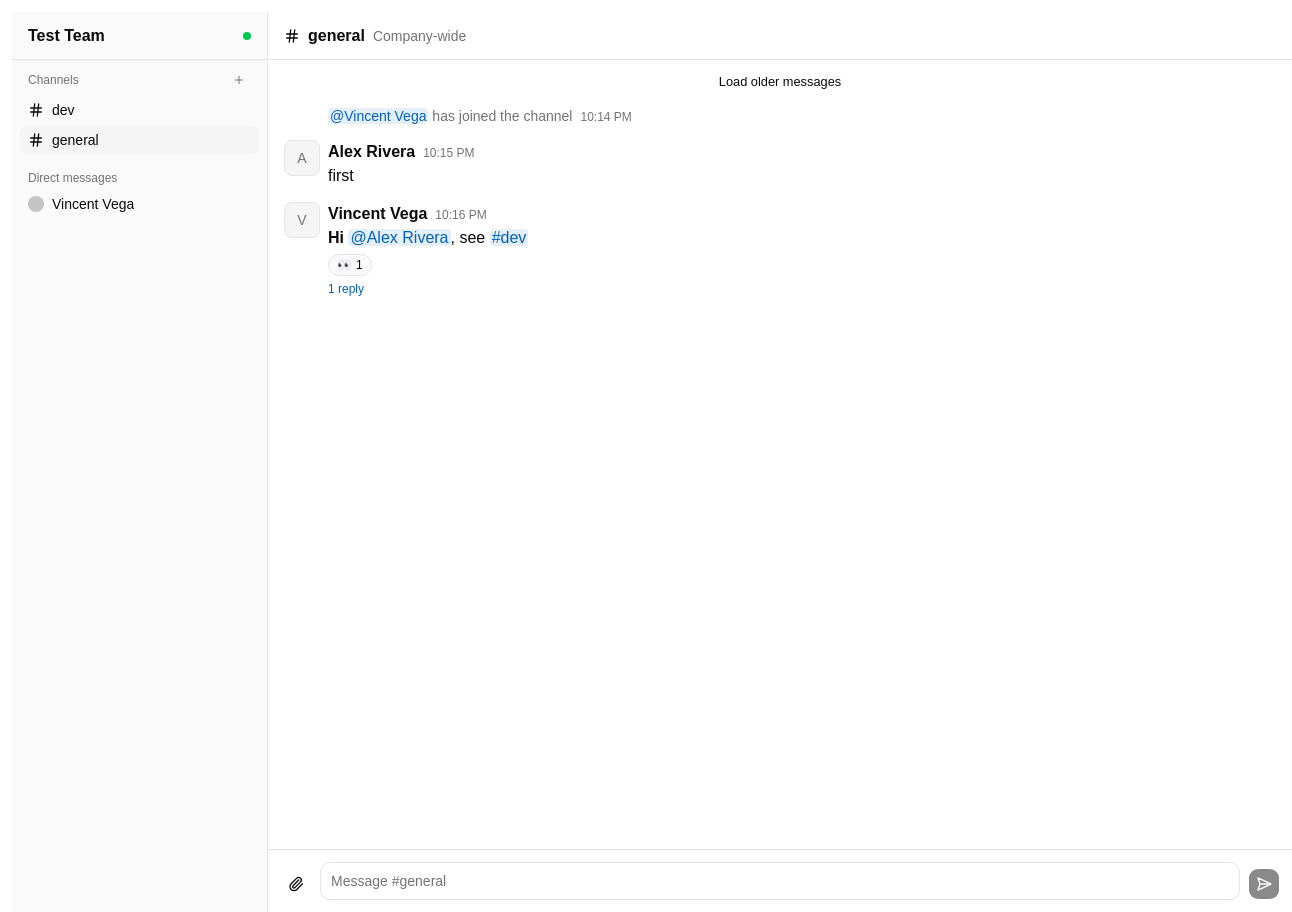
it: slash commands in the composer › offers the commands as the name is typed, and picks one with the keyboard
The image size is (1292, 912).
Type "/de" into the text box labelled "Message #general". click: (780, 881)
box: [320, 862, 1240, 900]
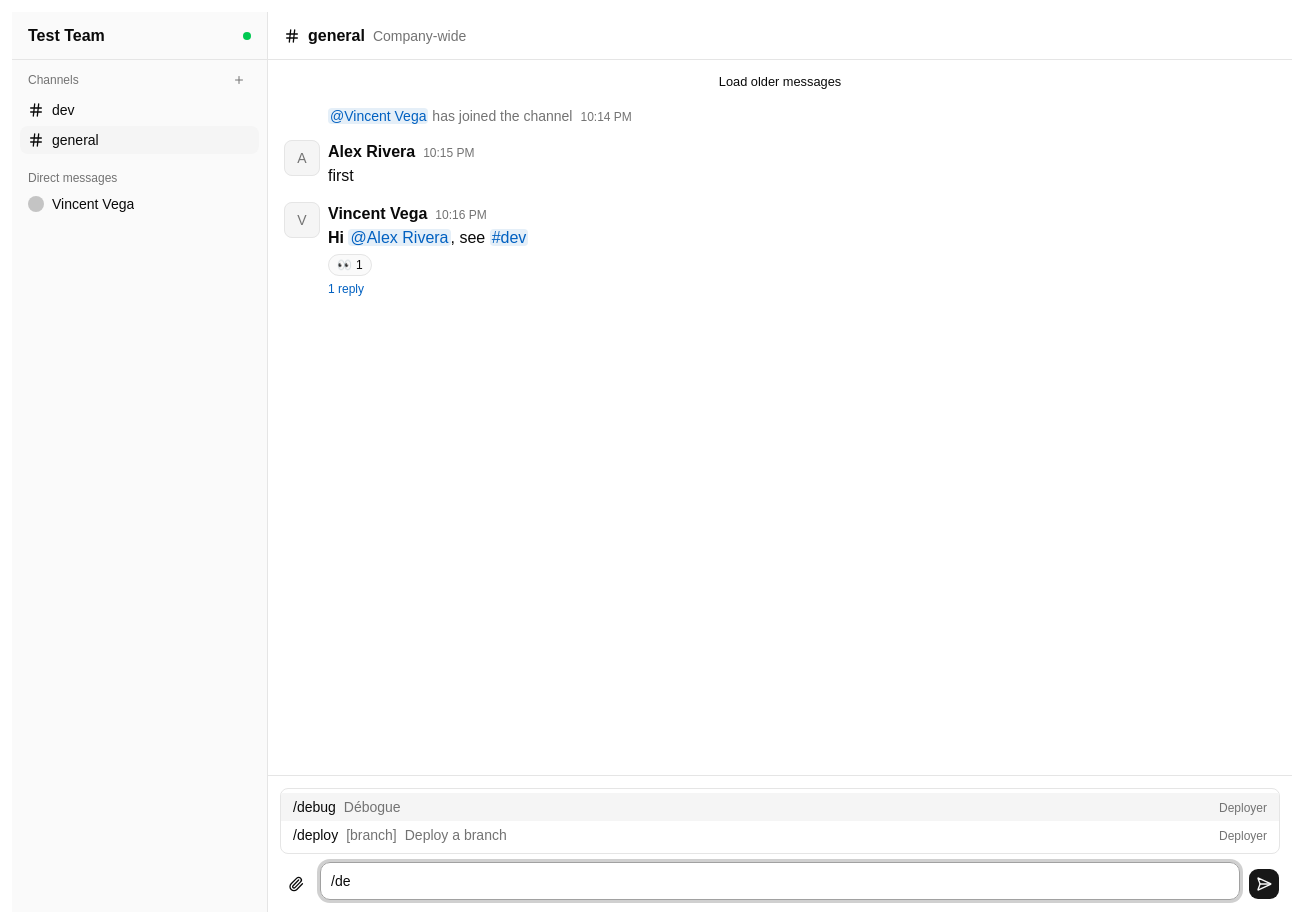
Expected: the list named "Commands" is shown, [280, 788, 1280, 854]
Press Arrowdown
Expected: the option "/deploy [branch] Deploy a branch Deployer" is shown, [281, 821, 1279, 849]
Press Tab
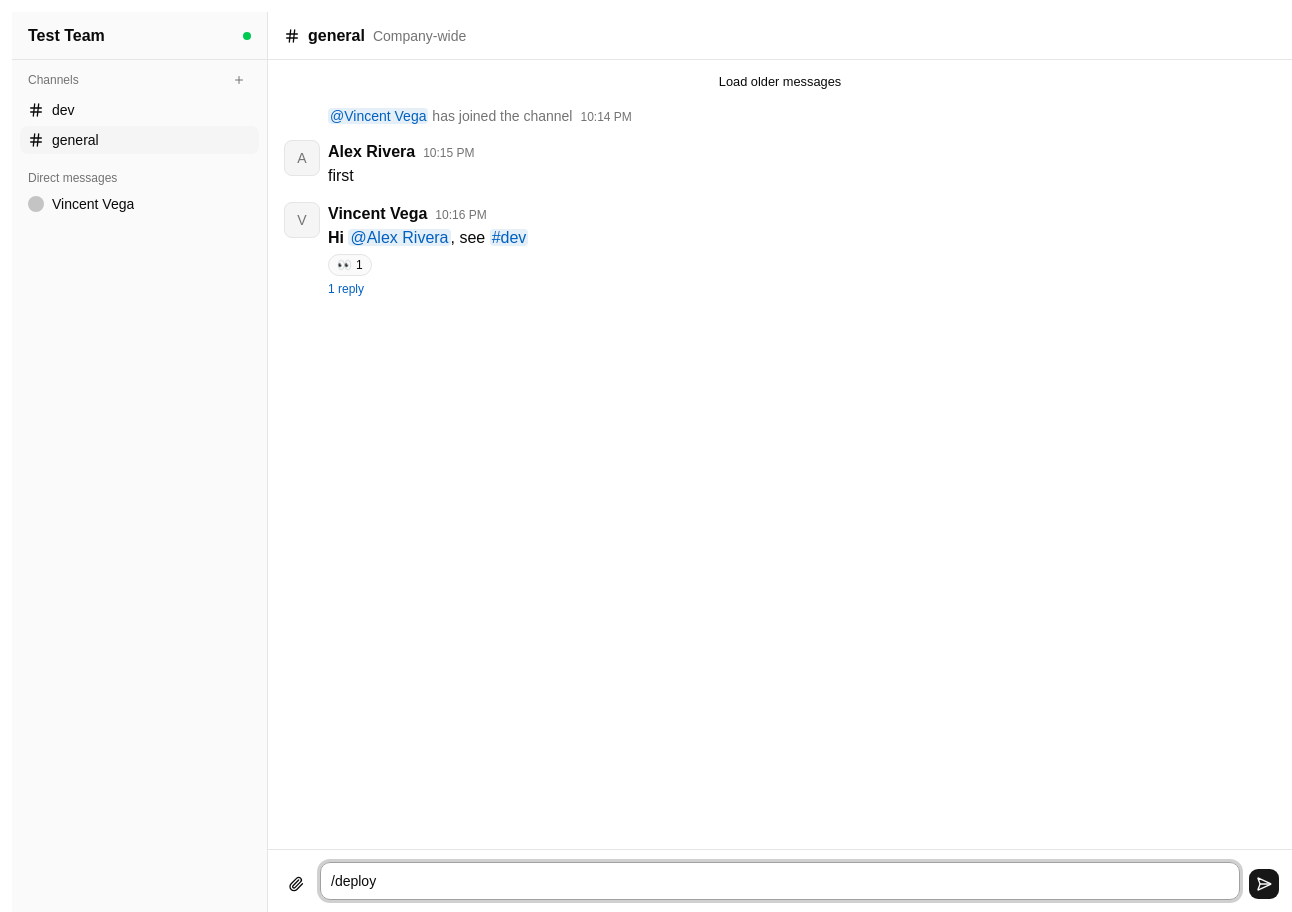
Expected: the text box named "Message #general" holds "/deploy "
// Escape hides the list for what's typed.
Replace the text in the text box named "Message #general" with "/". click: (780, 881)
box: [320, 862, 1240, 900]
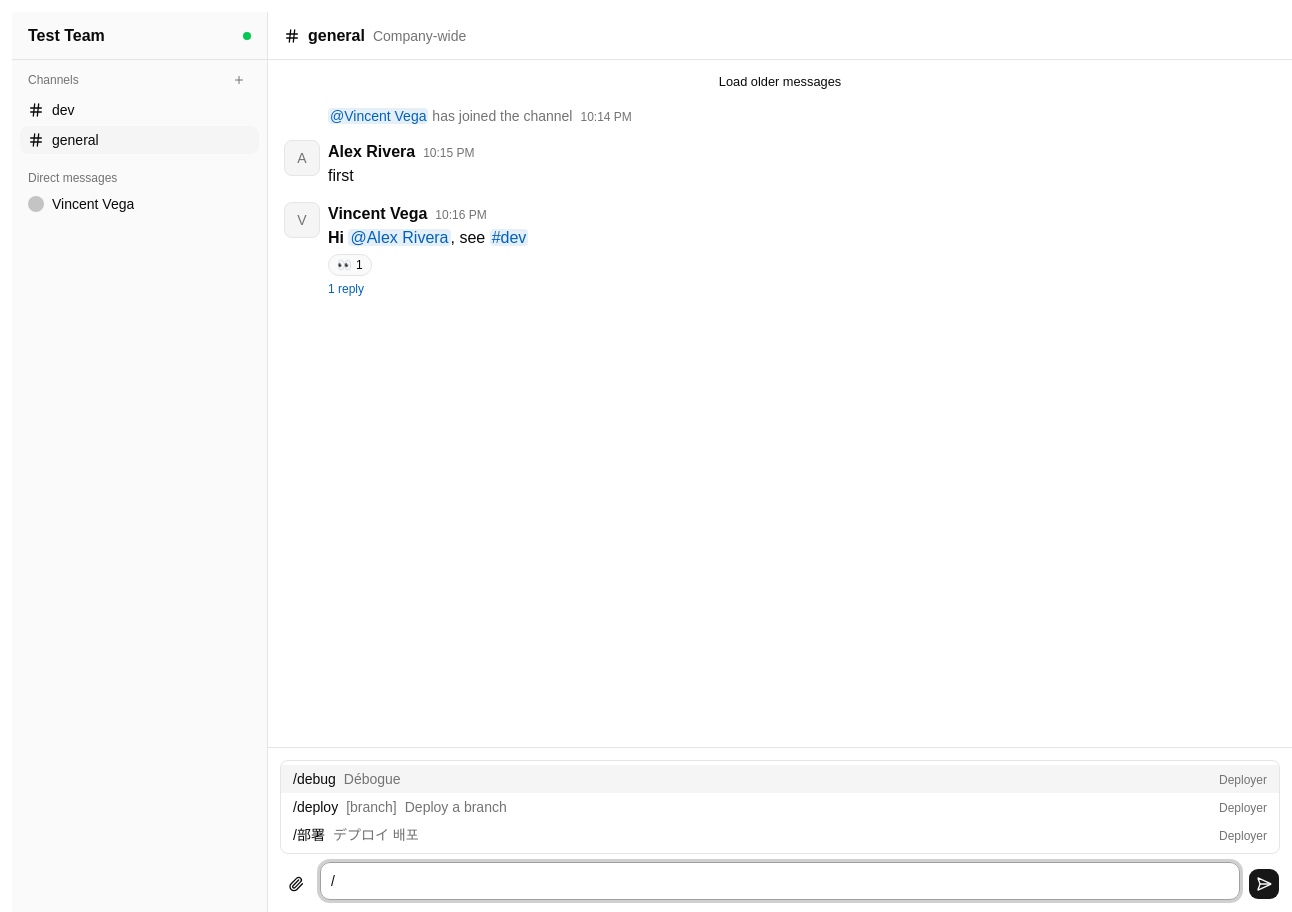
Press Escape
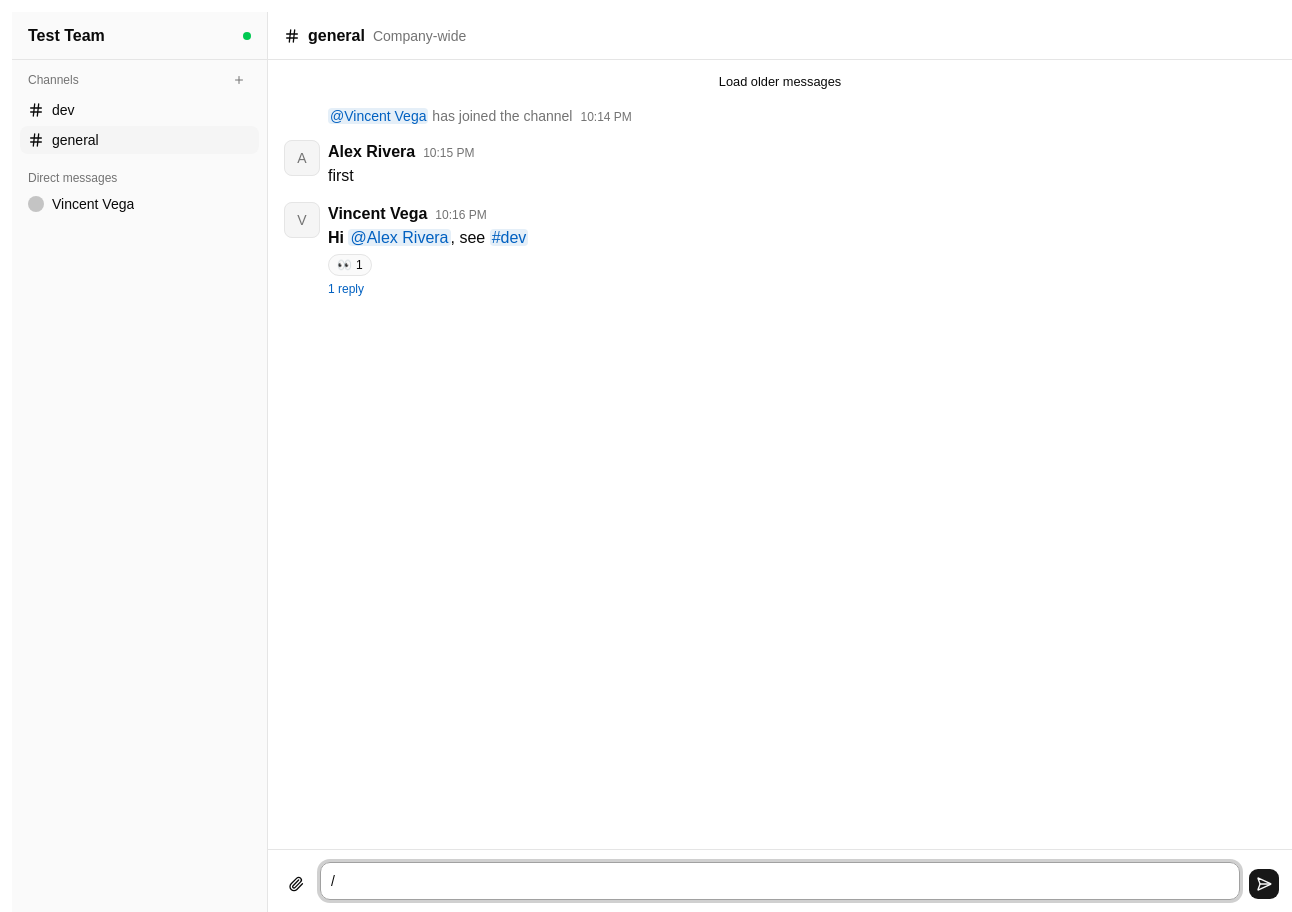
Type "部" into the text box named "Message #general". click: (780, 881)
box: [320, 862, 1240, 900]
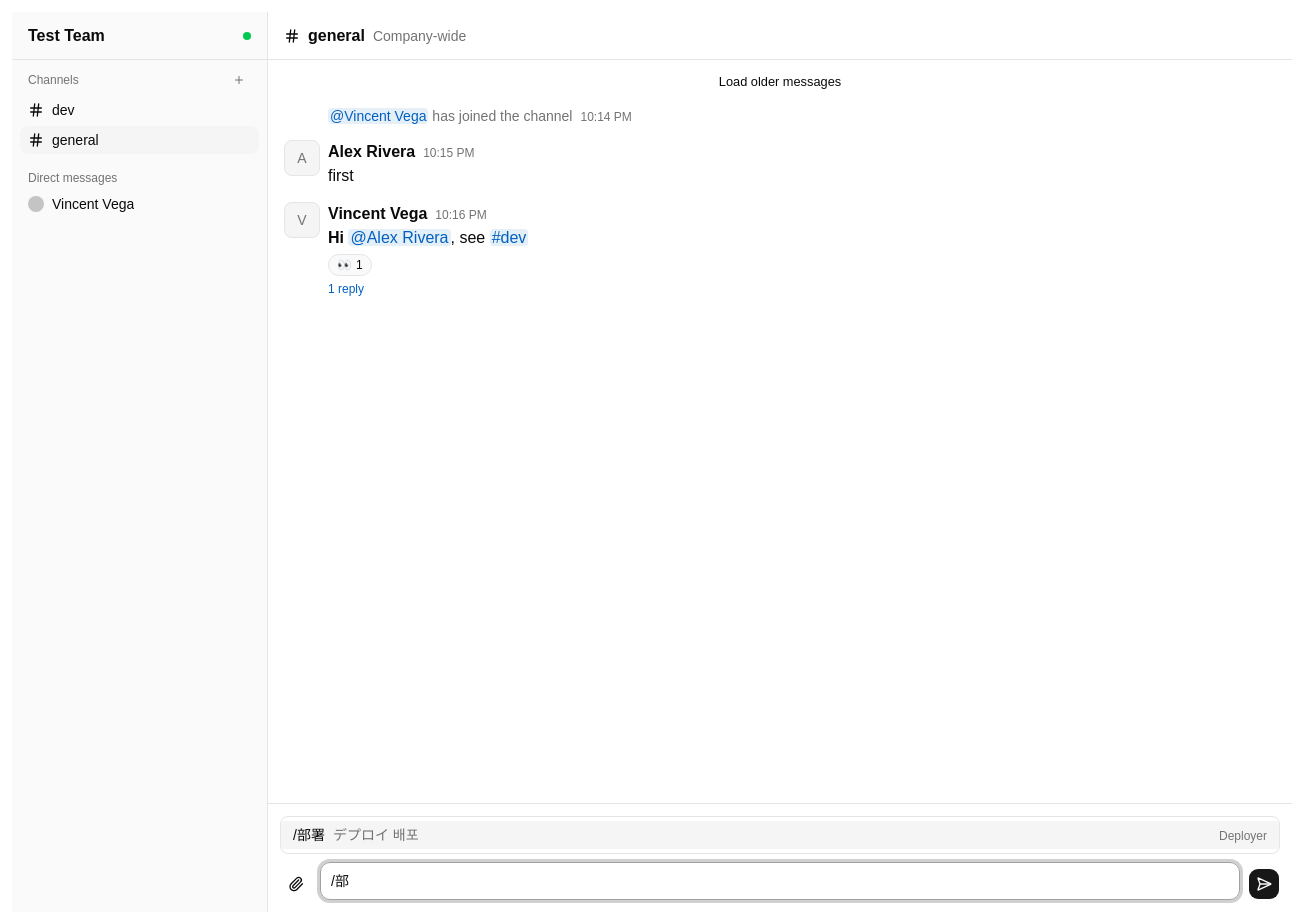
Click the option "/部署 デプロイ 배포 Deployer". click: (309, 835)
box: [281, 821, 1279, 849]
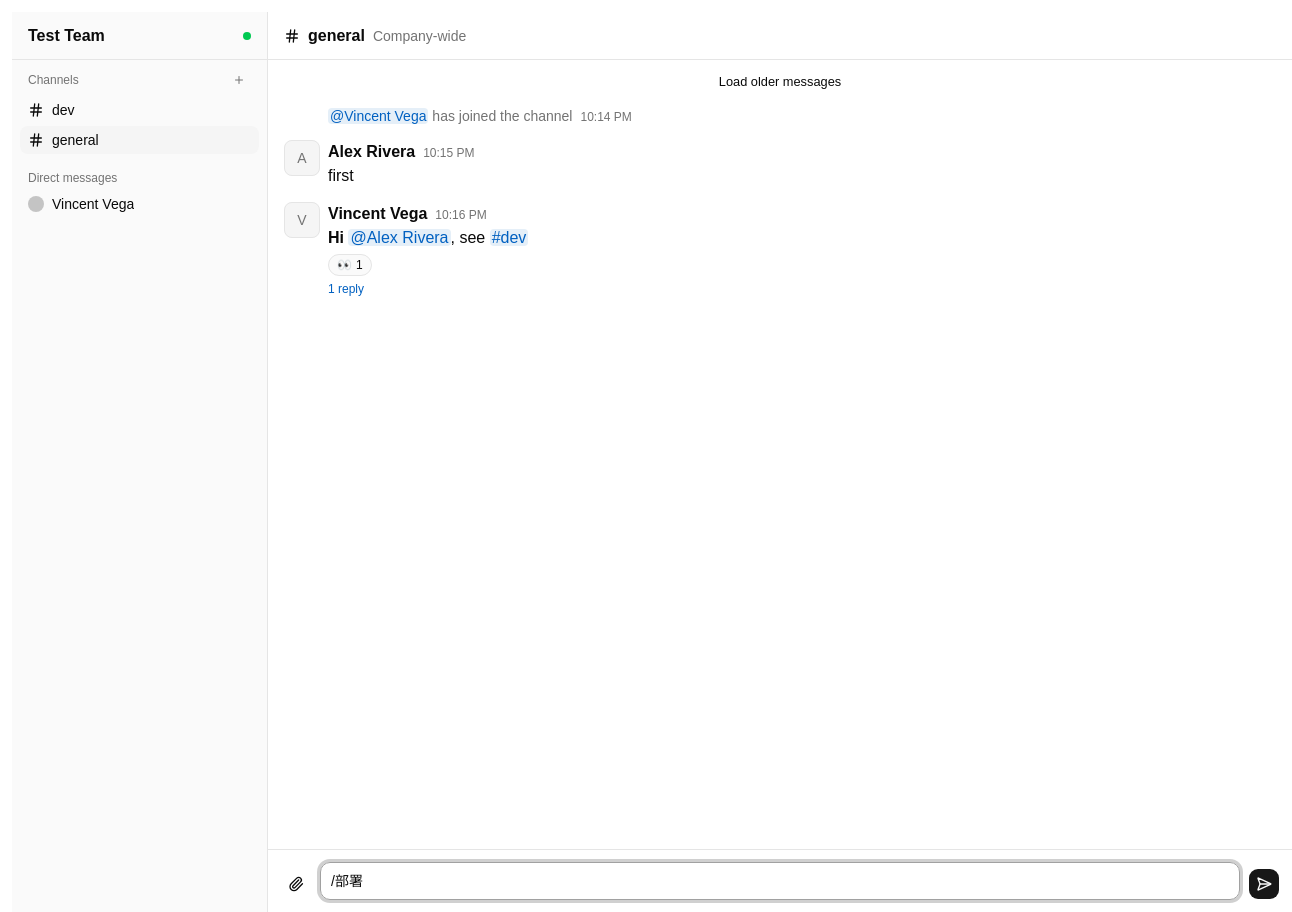
Expected: the text box named "Message #general" holds "/部署 ", [320, 862, 1240, 900]
